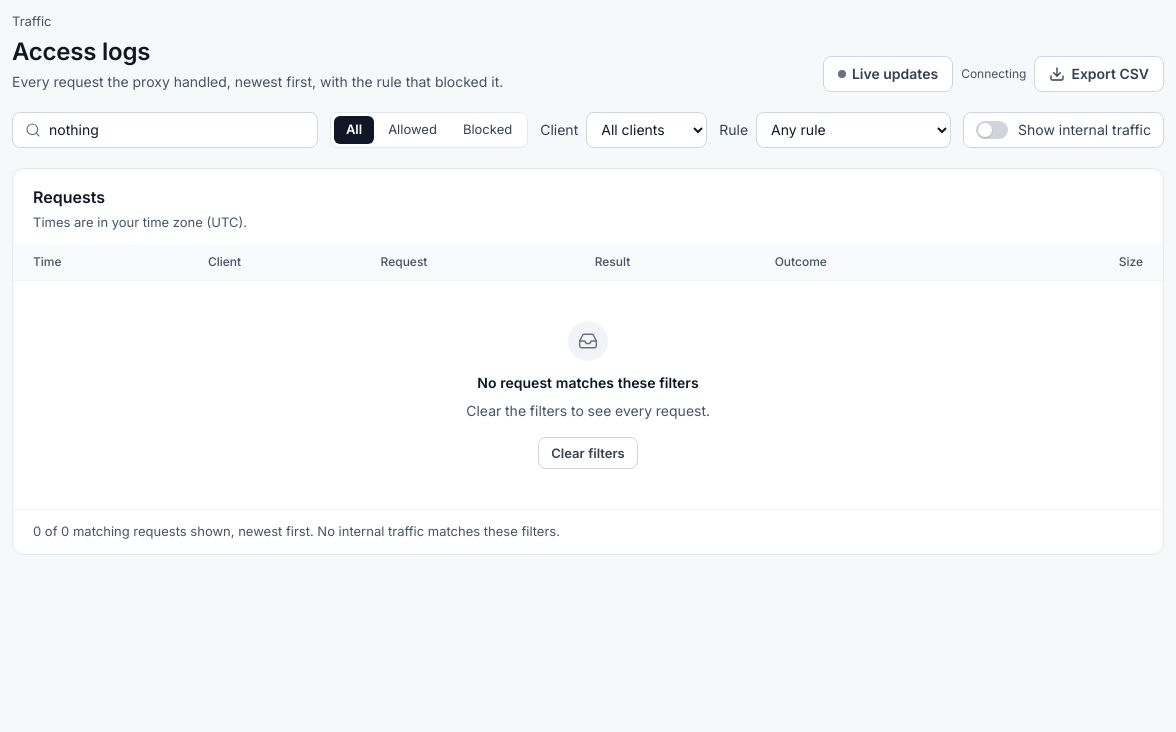
Test: Logs › says what is missing when nothing matches, and clears the filters
Expected: the text "No request matches these filters" is shown, [477,373,699,393]
Click the button "Clear filters" at (588, 453), box [538,437,638,469]
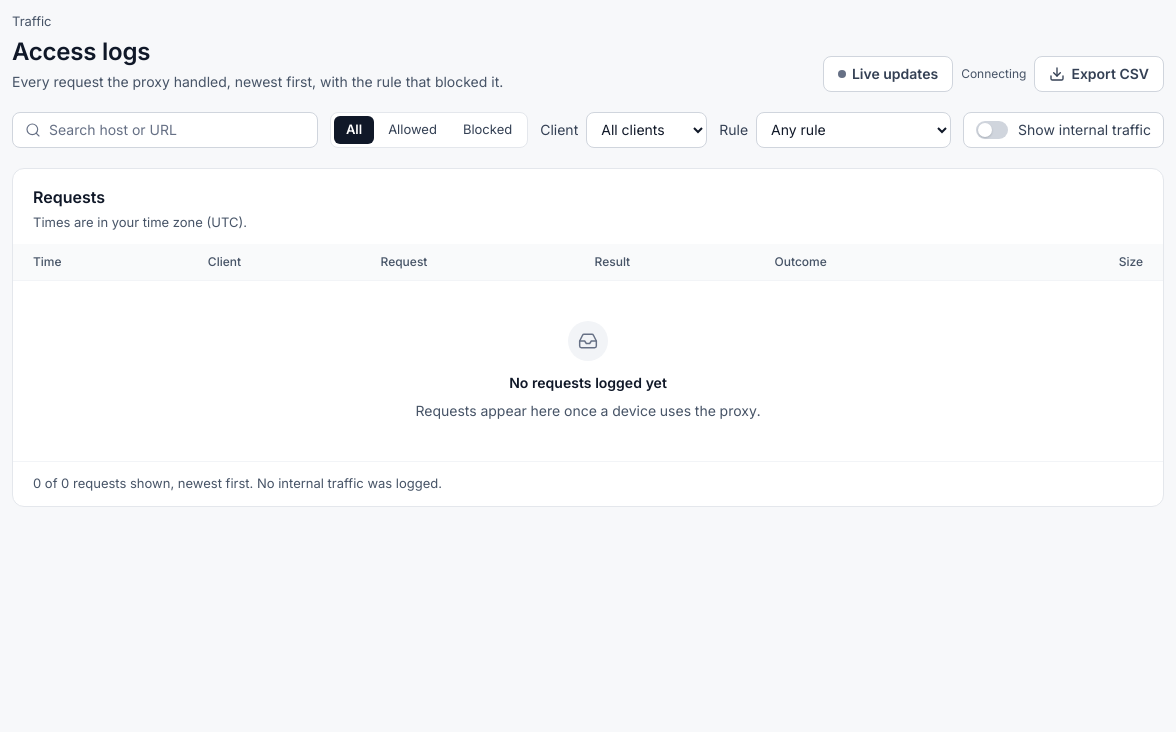
Result: the search field named "Search destinations" is empty at [49,112,305,146]
